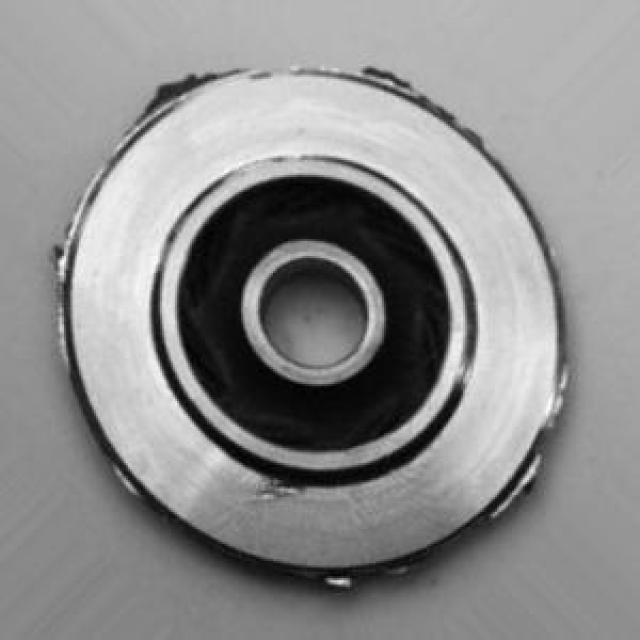Defect: (130, 69, 200, 112)
